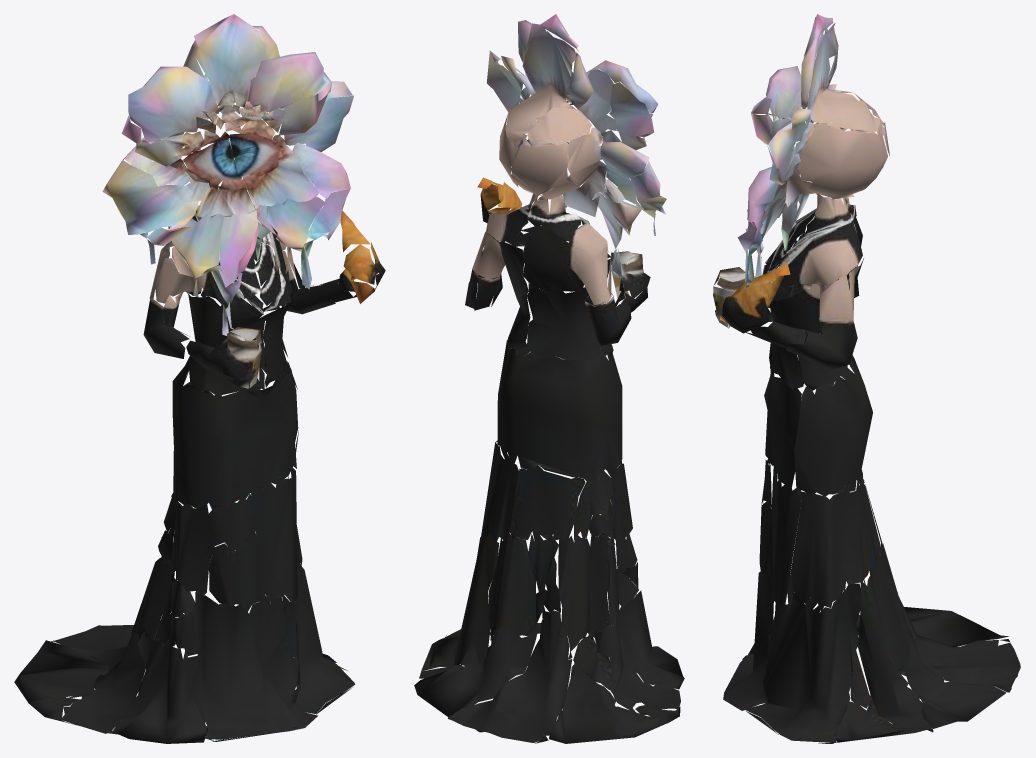
The model's file is crowd_gown.glb.
The picture shows the model from 3 angles, left to right: view 1: azimuth 30°, elevation 25°; view 2: azimuth 150°, elevation 25°; view 3: azimuth 270°, elevation 25°; orthographic projection. The views are drawn at different scales.
Parts seen in each view (by area): view 1: tripo_node_620514dc-a435-4403-84fe-d3314a613aa5; view 2: tripo_node_620514dc-a435-4403-84fe-d3314a613aa5; view 3: tripo_node_620514dc-a435-4403-84fe-d3314a613aa5.
Boxes of the visible parts, bbox=[...] form: tripo_node_620514dc-a435-4403-84fe-d3314a613aa5: bbox=[14, 14, 385, 743]; tripo_node_620514dc-a435-4403-84fe-d3314a613aa5: bbox=[414, 14, 684, 743]; tripo_node_620514dc-a435-4403-84fe-d3314a613aa5: bbox=[713, 14, 1020, 743].
Bounding box in the file's own units: 0.7925 × 1.88 × 0.7766.
Materials: 1 (1 with a texture image).
